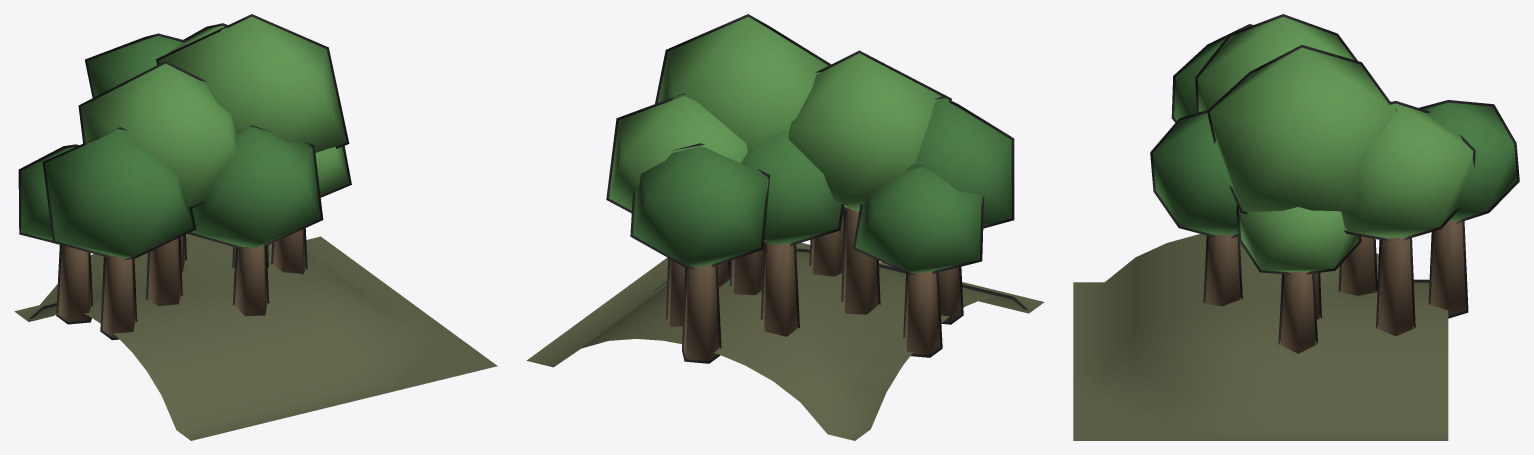
The model's file is td_forestcorner.fbx.
3 renders of one model, left to right at view 1: azimuth 30°, elevation 25°; view 2: azimuth 150°, elevation 25°; view 3: azimuth 270°, elevation 25°, orthographic. The views are drawn at different scales.
Visible parts, largest first — view 1: Forest_Corner; view 2: Forest_Corner; view 3: Forest_Corner.
Boxes of the visible parts, x1,y1,x2,y2 form: Forest_Corner: [14, 14, 497, 440]; Forest_Corner: [526, 14, 1044, 440]; Forest_Corner: [1073, 14, 1519, 440].
Size of the model in its own units: 237 by 191 by 238.
